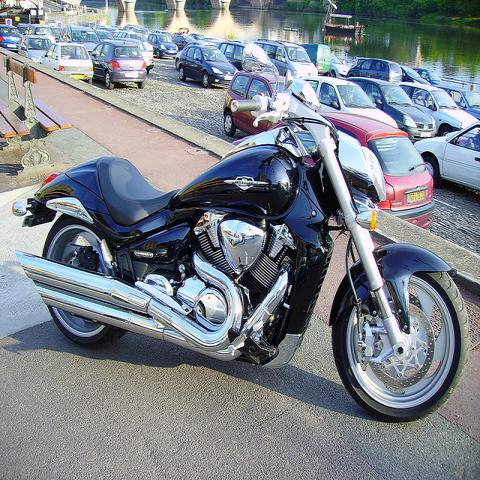car: (1, 18, 479, 123), (321, 112, 435, 231), (345, 76, 437, 144), (301, 74, 399, 130), (413, 122, 479, 194), (397, 82, 479, 137), (222, 74, 284, 138), (88, 38, 148, 90), (178, 45, 239, 88), (253, 39, 318, 79), (39, 40, 94, 84), (344, 57, 404, 84), (147, 33, 179, 60), (329, 54, 350, 78)
motorcycle: (9, 93, 472, 422)
truck: (300, 44, 332, 76)
